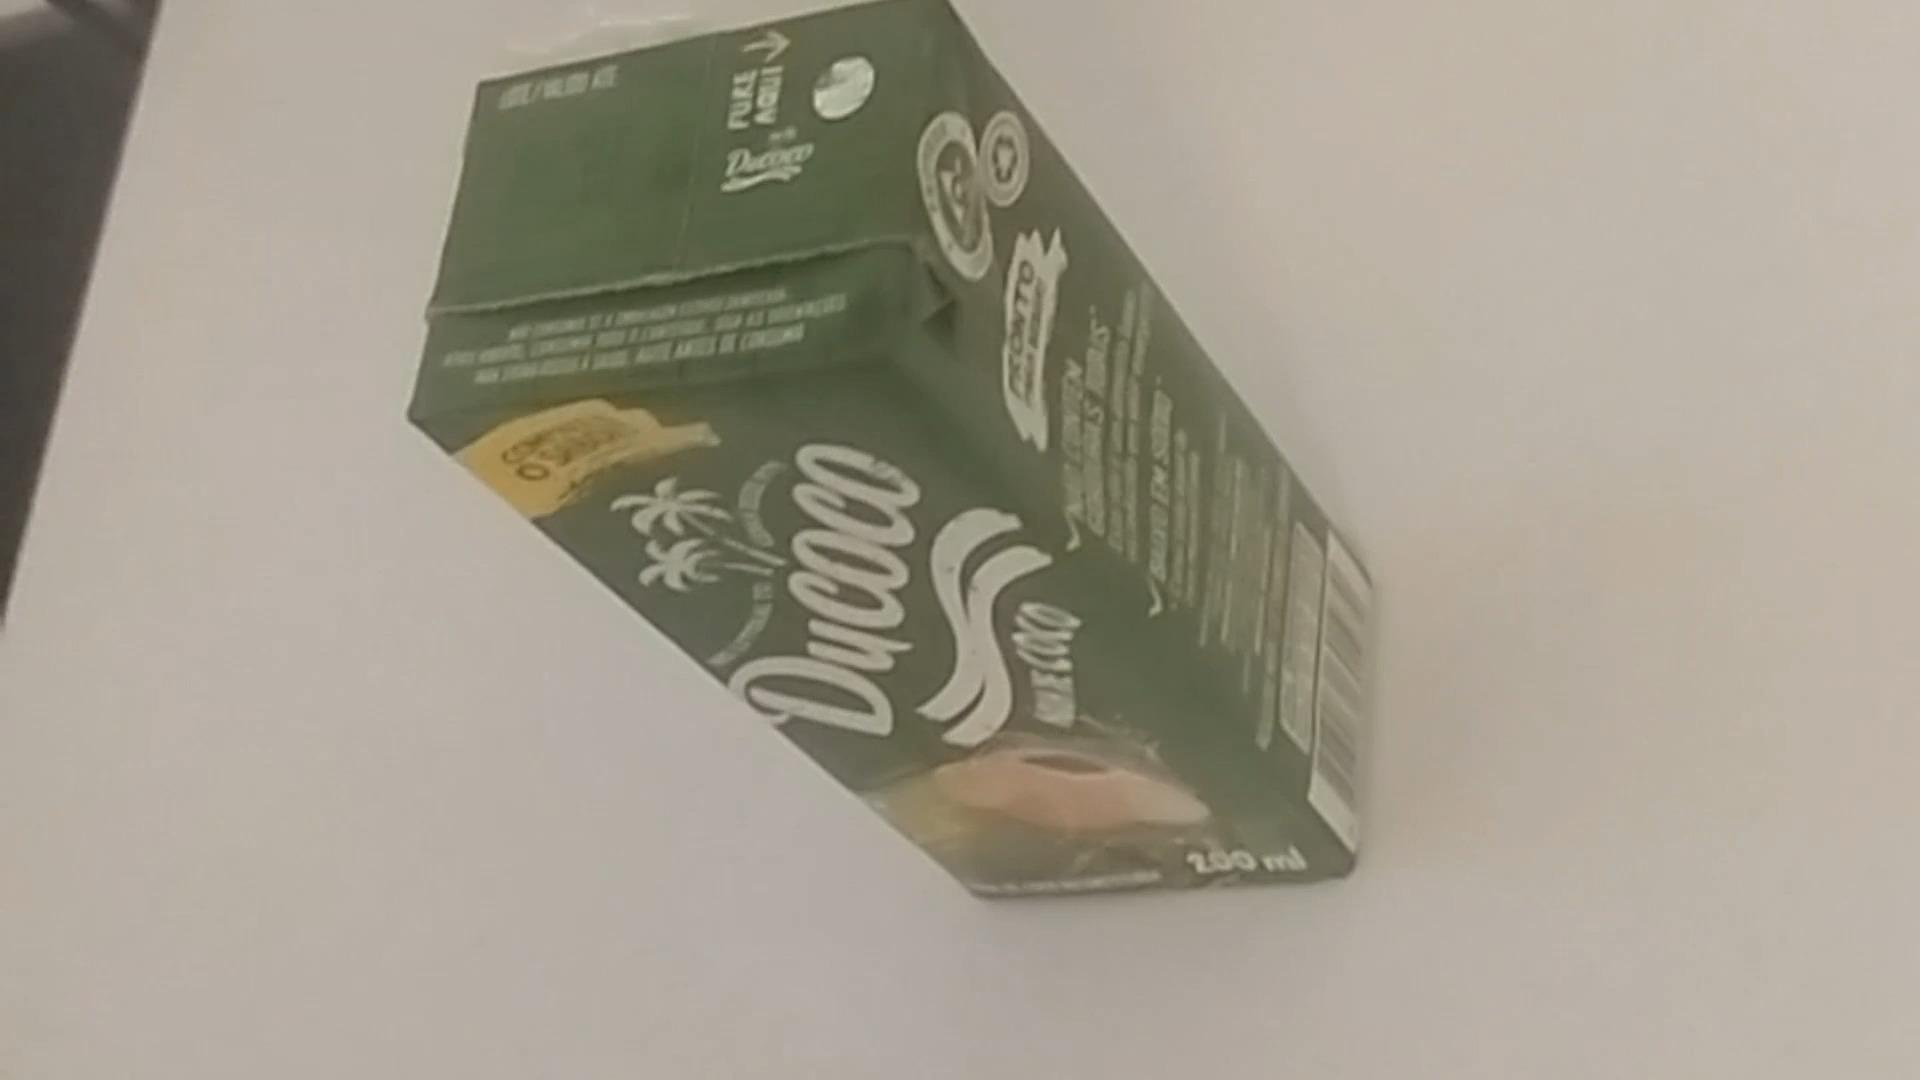coco: (409, 0, 1361, 909)
